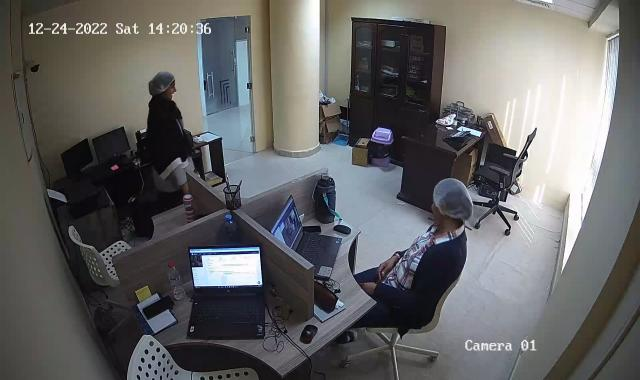hairnet: (429, 178, 474, 227), (149, 68, 177, 100)
